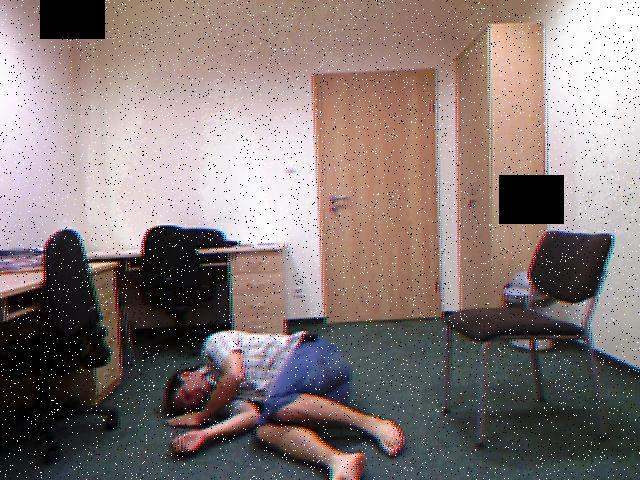fall: (160, 324, 413, 480)
